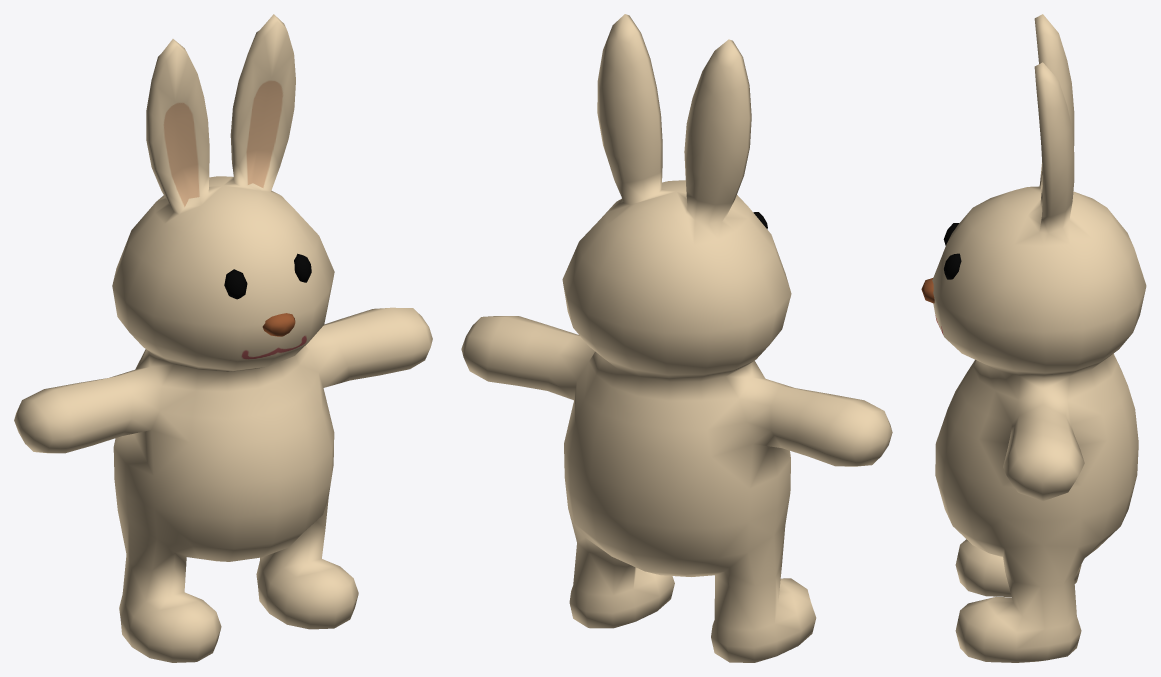
The model's file is Rabbit.FBX.
3 views of the same model, side by side, from view 1: azimuth 30°, elevation 25°; view 2: azimuth 150°, elevation 25°; view 3: azimuth 270°, elevation 25° (orthographic). The views are drawn at different scales.
Parts seen in each view (by area): view 1: Rabbit; view 2: Rabbit; view 3: Rabbit.
Boxes of the visible parts, left/top/right/bottom form: Rabbit: left=14, top=14, right=432, bottom=662; Rabbit: left=461, top=14, right=892, bottom=662; Rabbit: left=921, top=14, right=1146, bottom=662.
Bounding box in the file's own units: 42.91 × 59.93 × 20.95.
Materials: 1 (1 with a texture image).
